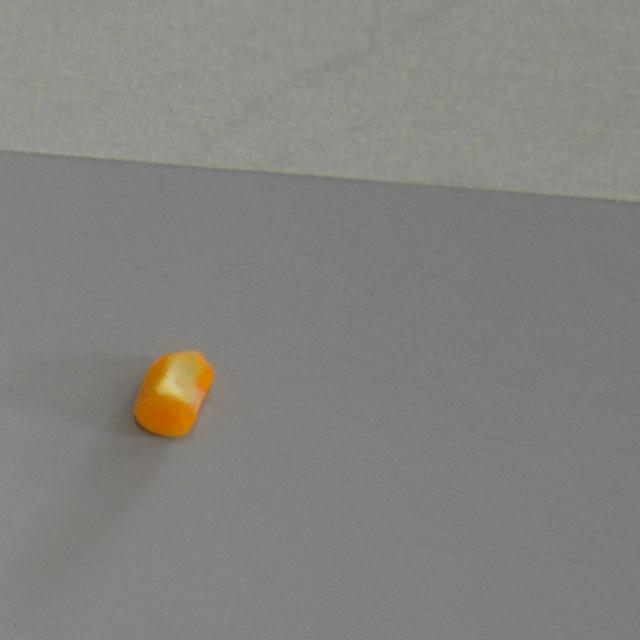no_canjicado: (130, 348, 214, 438)
